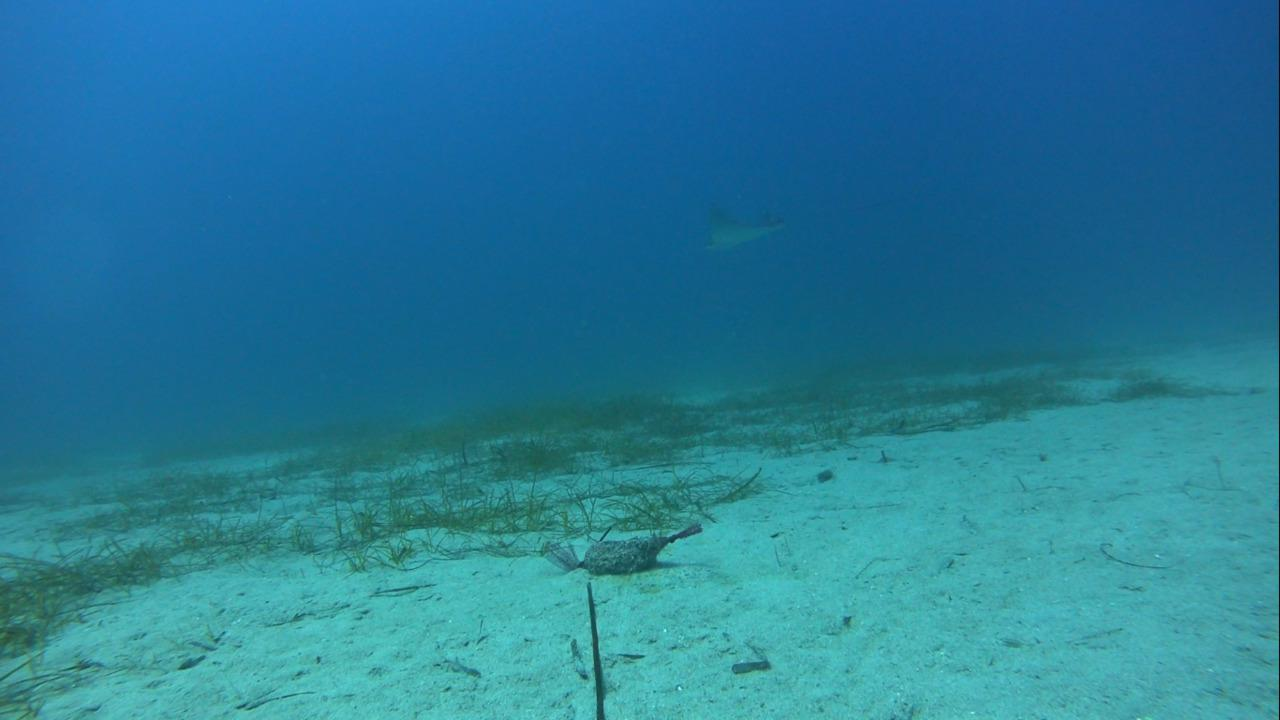myliobatis: (694, 190, 945, 258)
